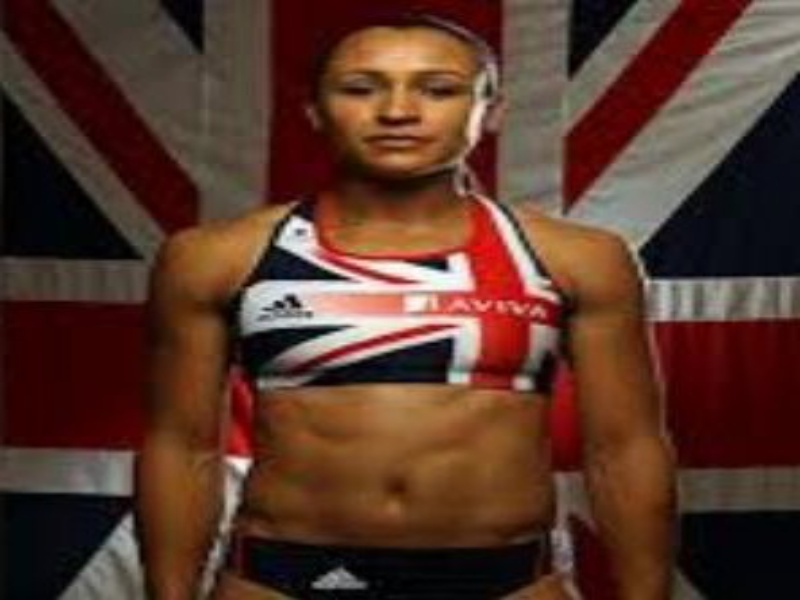TsisyArotava: (298, 14, 530, 203)
